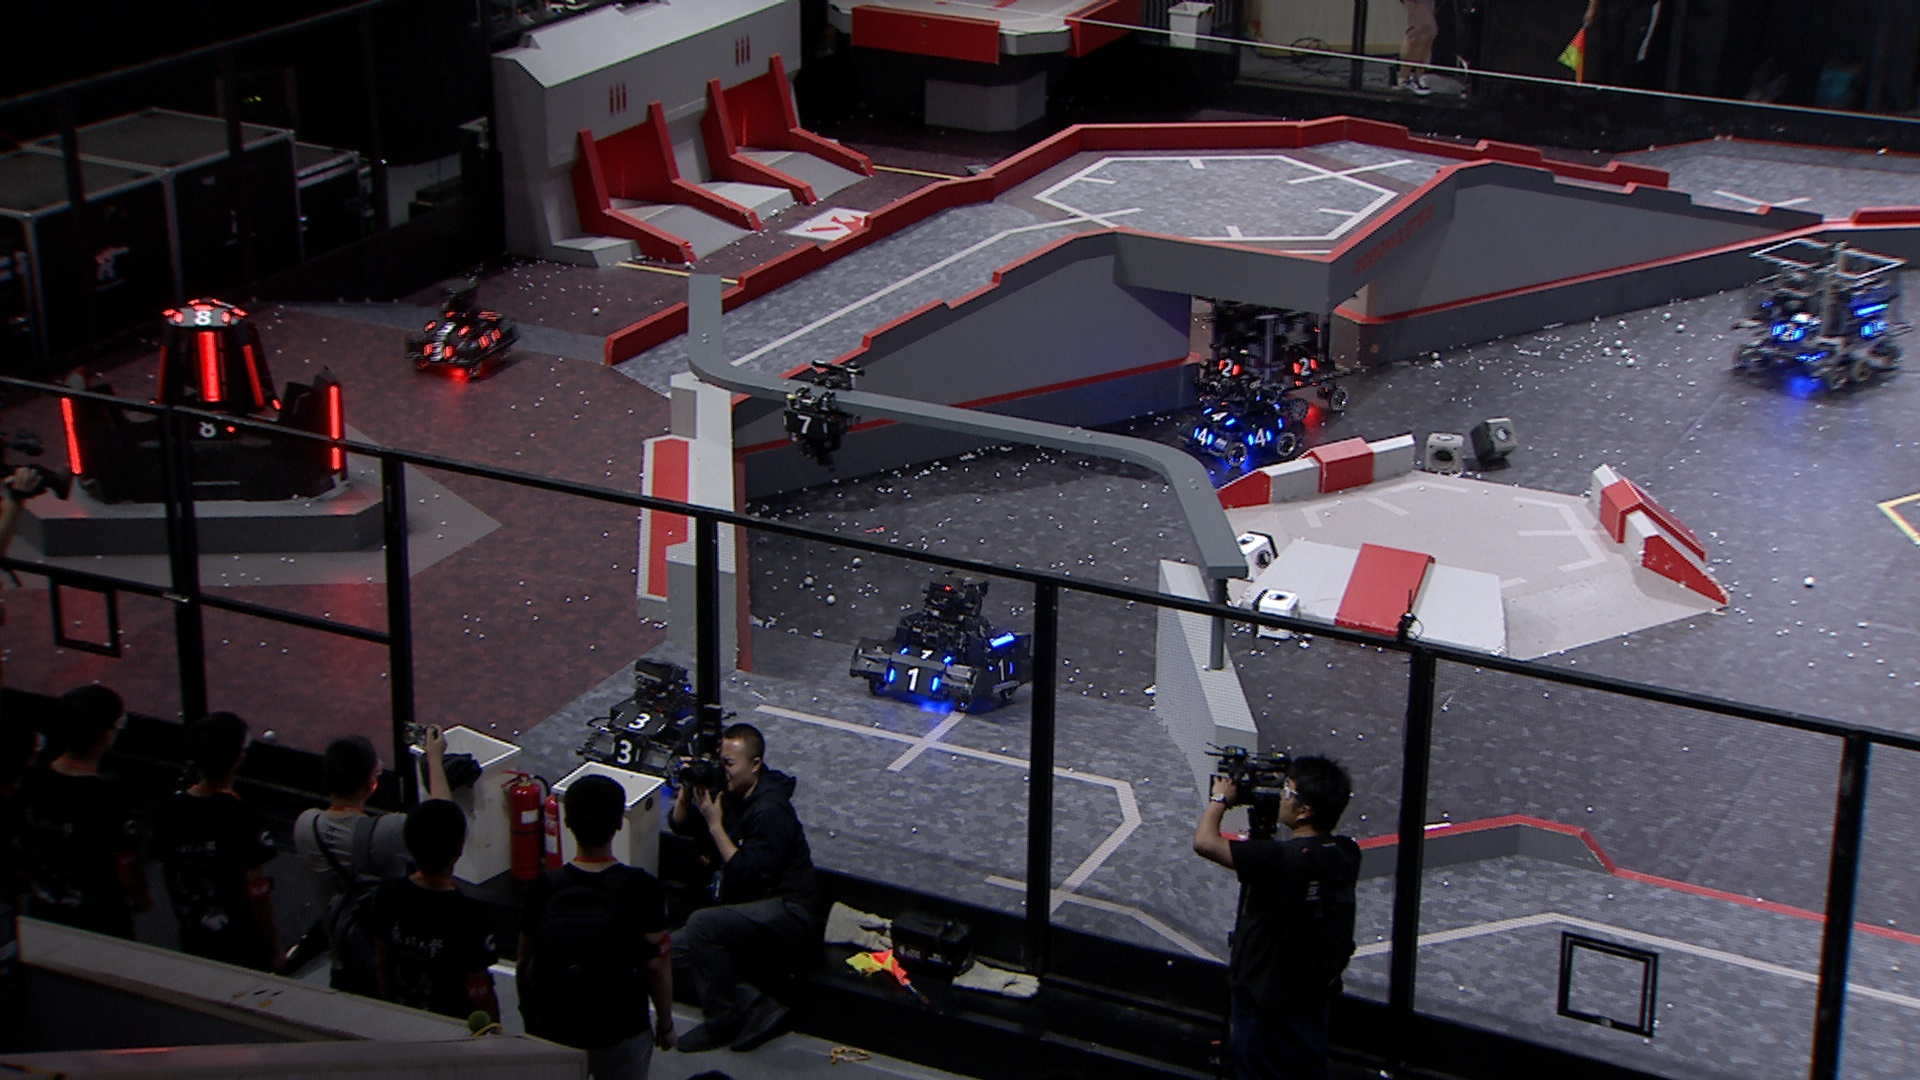armor: (193, 328, 224, 404), (58, 394, 83, 479), (237, 343, 269, 407), (323, 381, 345, 471), (884, 665, 944, 692), (612, 708, 665, 737), (893, 644, 955, 666), (781, 414, 833, 436), (171, 309, 229, 328), (607, 737, 644, 767), (419, 319, 472, 339), (152, 345, 167, 407), (419, 338, 456, 363), (193, 419, 237, 439), (1774, 320, 1807, 344), (1245, 425, 1275, 448), (986, 657, 1017, 680), (1200, 406, 1238, 425), (1216, 353, 1244, 377), (1859, 315, 1888, 338), (1292, 353, 1319, 376), (1191, 425, 1216, 447), (477, 327, 502, 348)
base: (57, 297, 349, 504)
car: (1730, 235, 1913, 392), (847, 568, 1035, 716), (1192, 272, 1358, 413), (576, 655, 738, 793), (401, 276, 524, 378), (1176, 371, 1305, 467)
watcher: (779, 361, 869, 476)
